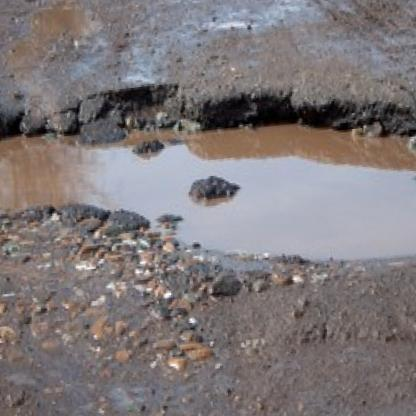pothole: (0, 33, 416, 323)
